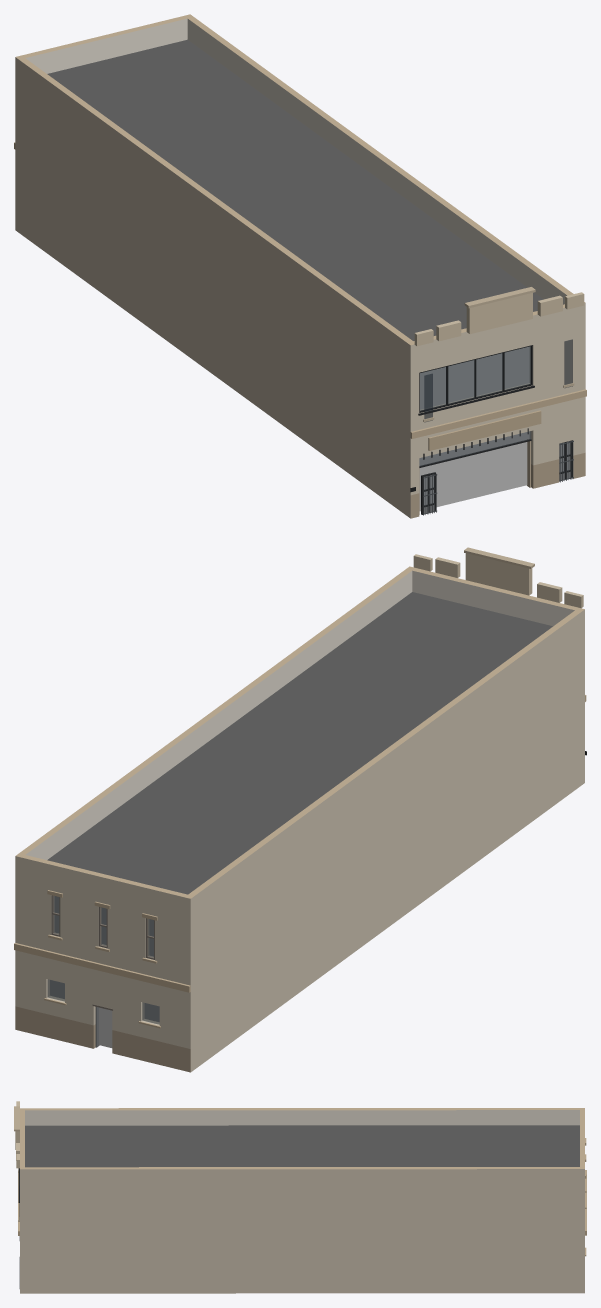
The model's file is exterior.glb.
The picture shows the model from 3 angles, top to bottom: view 1: azimuth 30°, elevation 25°; view 2: azimuth 150°, elevation 25°; view 3: azimuth 270°, elevation 25°; orthographic projection. The views are drawn at different scales.
Visible parts, largest first — view 1: shell, roof, shadow-proxy, glazing, hand-ornament, trim, front-dressing, storefront, frames; view 2: shell, roof, hand-ornament, trim, shadow-proxy, glazing; view 3: shell, roof, hand-ornament, trim.
Part boxes in pixels (left/top/right/bottom): shell: left=15, top=14, right=585, bottom=518; roof: left=47, top=39, right=543, bottom=340; shadow-proxy: left=419, top=347, right=569, bottom=511; glazing: left=419, top=346, right=570, bottom=505; hand-ornament: left=410, top=287, right=584, bottom=492; trim: left=14, top=142, right=586, bottom=438; front-dressing: left=428, top=410, right=541, bottom=450; storefront: left=419, top=439, right=573, bottom=515; frames: left=419, top=345, right=532, bottom=412; shell: left=15, top=566, right=584, bottom=1072; roof: left=47, top=592, right=552, bottom=894; hand-ornament: left=413, top=547, right=586, bottom=755; trim: left=14, top=695, right=586, bottom=1028; shadow-proxy: left=50, top=896, right=159, bottom=1047; glazing: left=47, top=896, right=159, bottom=1024; shell: left=20, top=1108, right=584, bottom=1293; roof: left=25, top=1125, right=579, bottom=1167; hand-ornament: left=14, top=1101, right=19, bottom=1221; trim: left=18, top=1138, right=586, bottom=1256.
Size of the model in its own units: 9.48 by 10.41 by 37.26.
